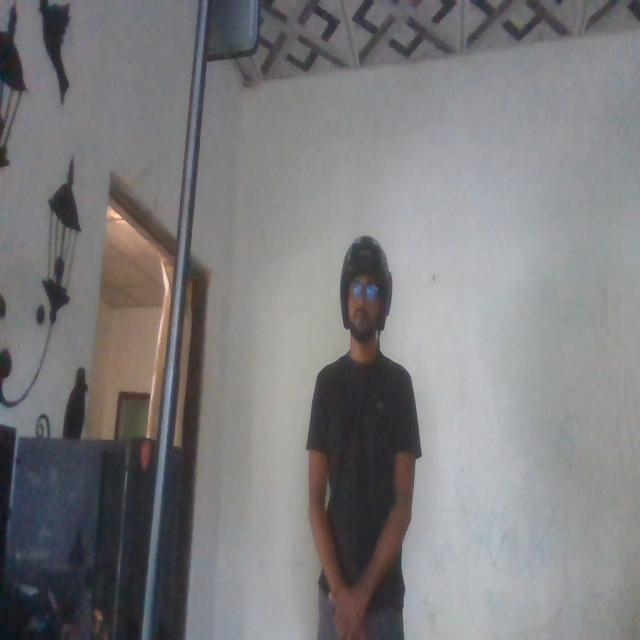Person: (303, 229, 433, 640), (334, 224, 396, 374)
